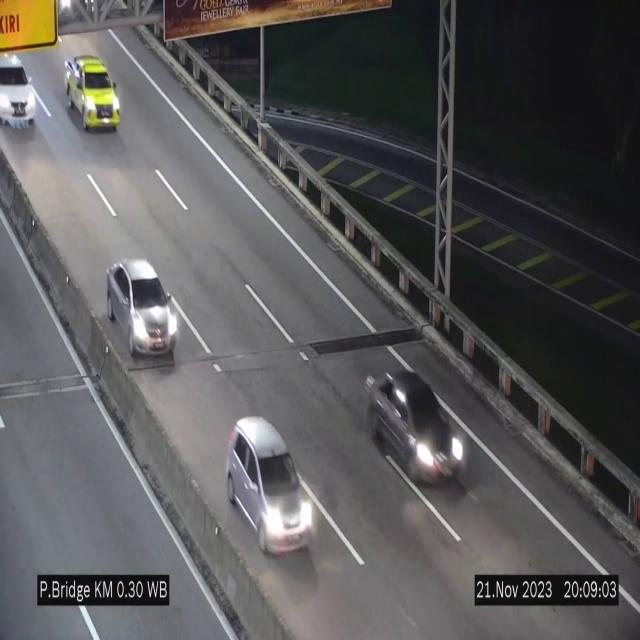Car: (228, 418, 314, 554), (366, 375, 463, 488), (106, 260, 179, 356), (64, 56, 120, 130), (0, 50, 38, 130)
